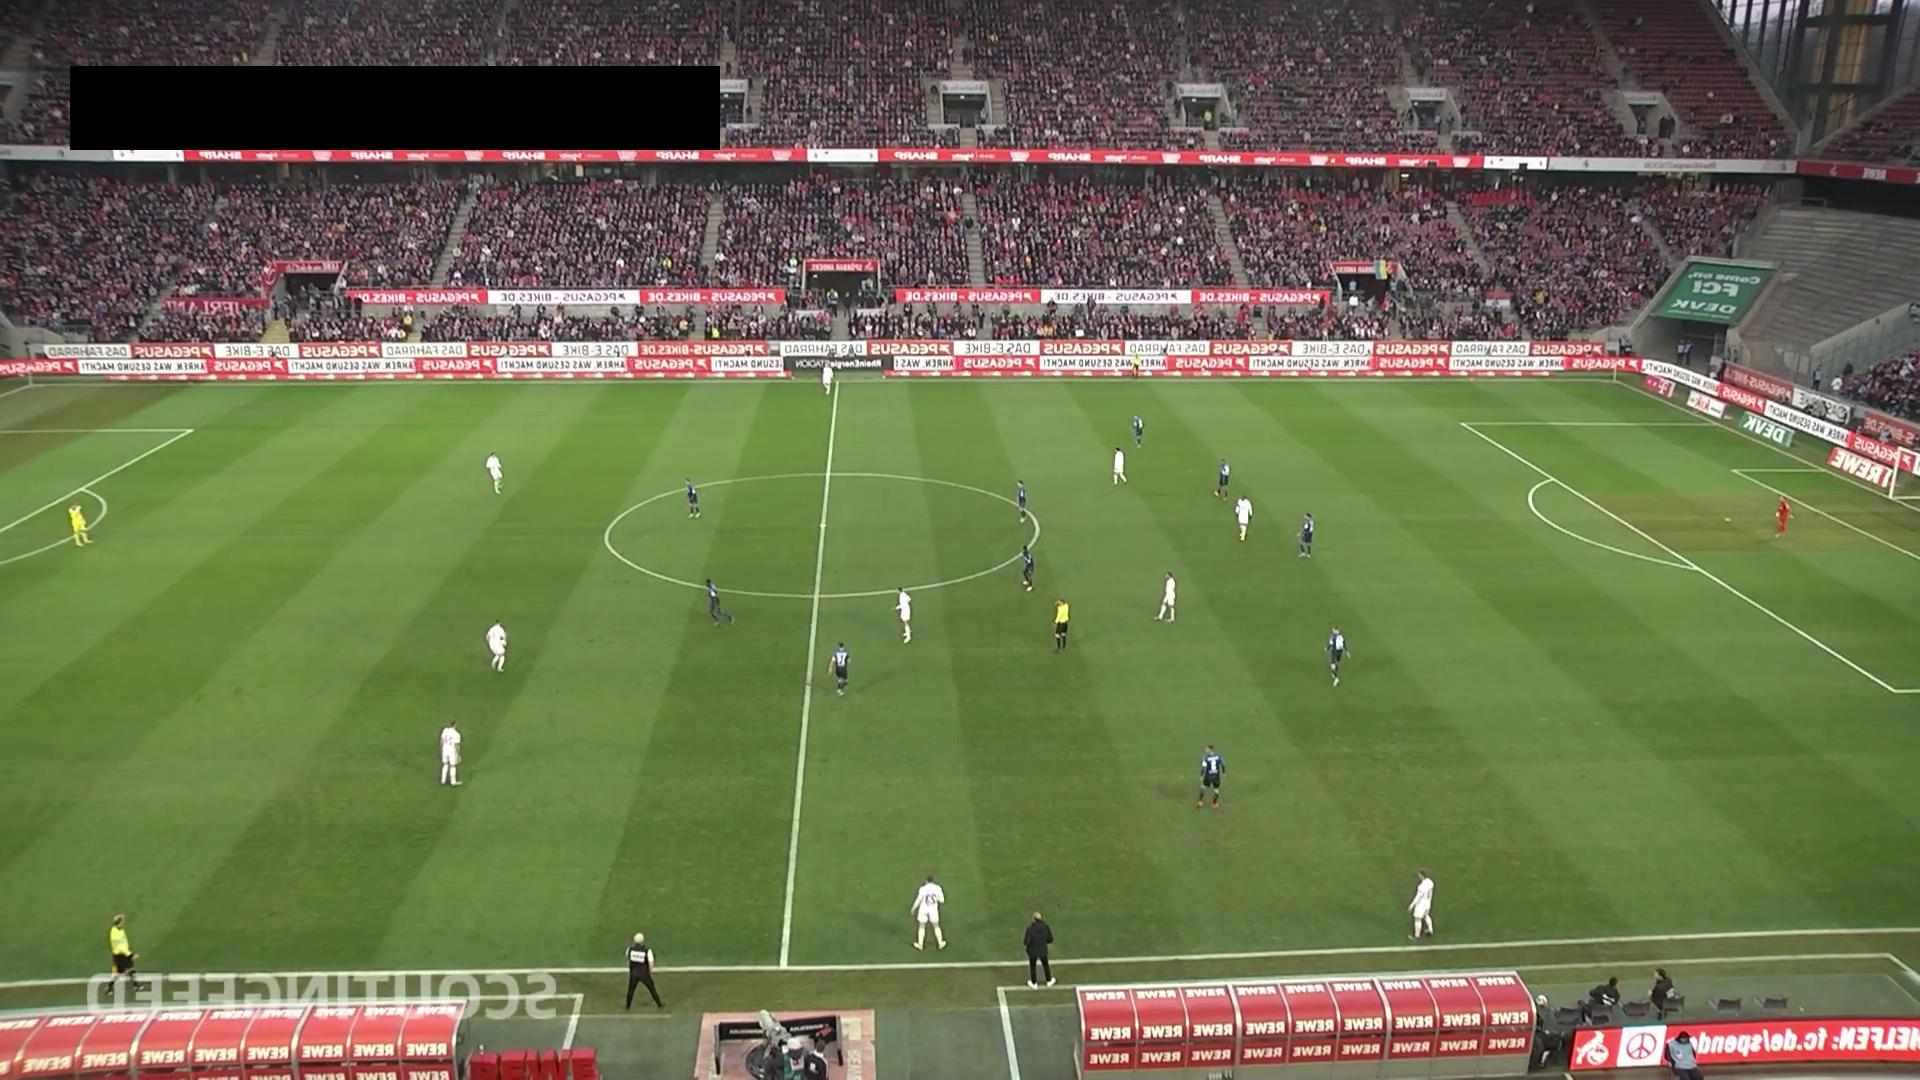ball: (500, 638, 509, 647)
goalkeeper: (68, 503, 96, 549), (1774, 495, 1793, 537)
player: (911, 872, 947, 951), (1193, 743, 1227, 810), (1406, 868, 1435, 939), (439, 719, 463, 786), (1325, 625, 1349, 686), (705, 578, 734, 627), (828, 640, 851, 696), (891, 586, 913, 644), (1154, 570, 1177, 622), (486, 619, 508, 672), (1234, 493, 1253, 541), (1296, 512, 1314, 559), (485, 451, 504, 495), (684, 477, 701, 519), (1020, 544, 1035, 591), (1015, 478, 1029, 526), (1215, 457, 1230, 500), (1112, 445, 1128, 485), (820, 359, 836, 397), (1131, 414, 1144, 449)
referee: (103, 913, 148, 999), (1051, 596, 1070, 652), (1130, 351, 1142, 381)
